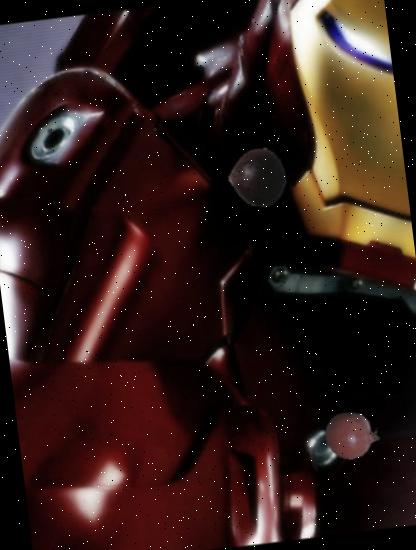Chestnut: (224, 144, 291, 210)
Pomegranate: (322, 404, 384, 467)
